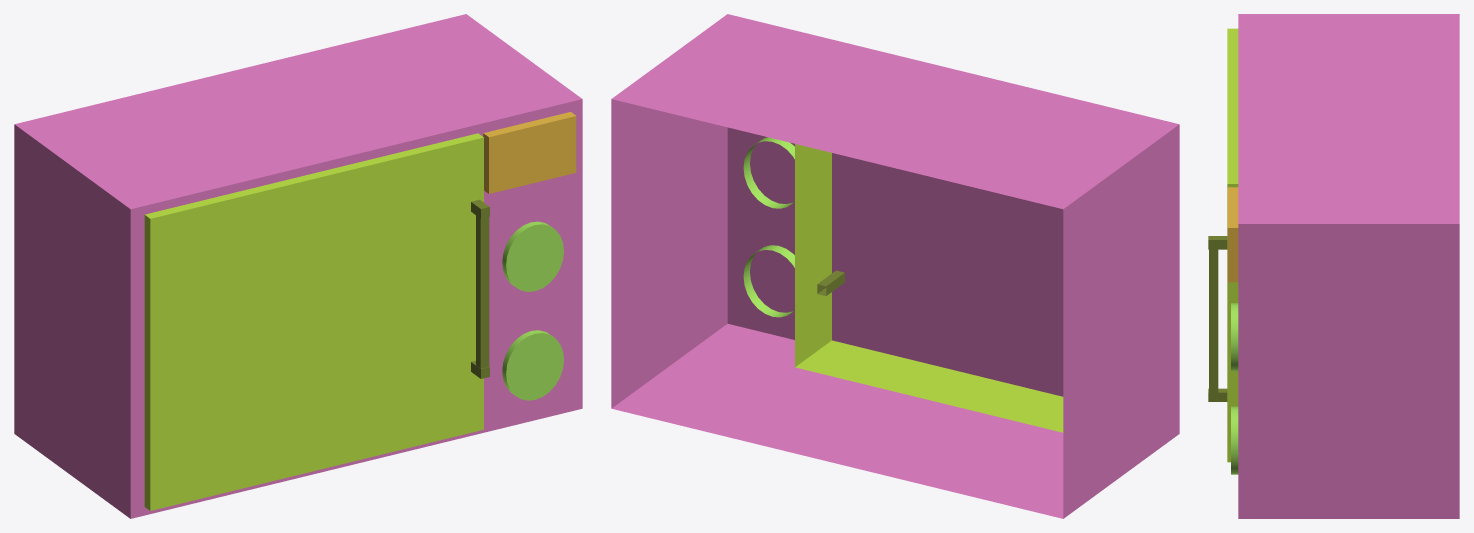
The model's file is 4 microwave.fbx.
The picture shows the model from 3 angles, left to right: view 1: azimuth 30°, elevation 25°; view 2: azimuth 150°, elevation 25°; view 3: azimuth 270°, elevation 25°; orthographic projection. The views are drawn at different scales.
Parts seen in each view (by area): view 1: 4 microwave; view 2: 4 microwave; view 3: 4 microwave.
Part boxes in pixels (x1=…): 4 microwave: x1=14, y1=14, x2=582, y2=518; 4 microwave: x1=611, y1=14, x2=1179, y2=518; 4 microwave: x1=1208, y1=14, x2=1459, y2=518.
Bounding box in the file's own units: 33.26 × 21.78 × 16.83.
